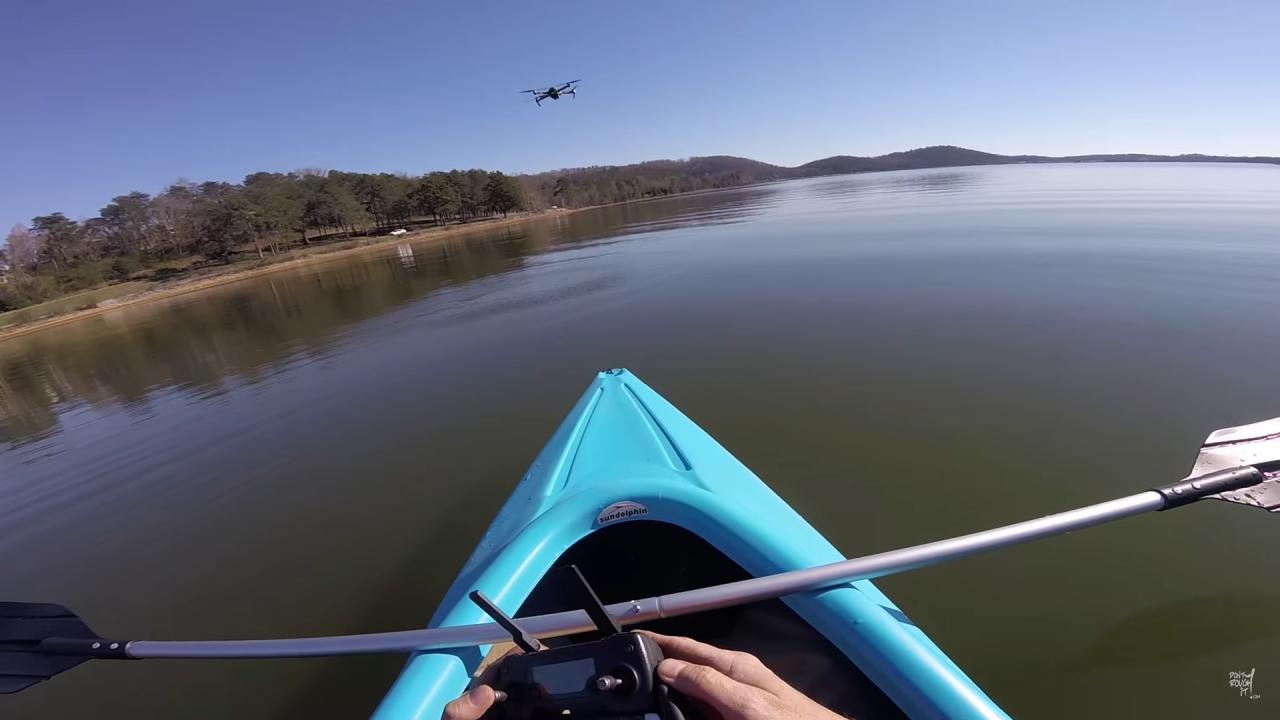Drone: (511, 70, 591, 117)
